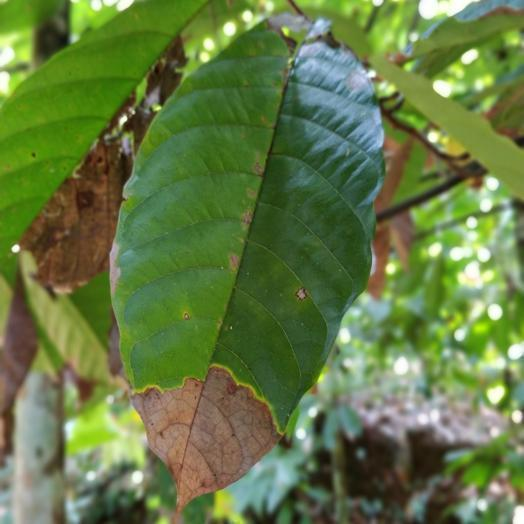Potassium: (113, 15, 384, 506)
